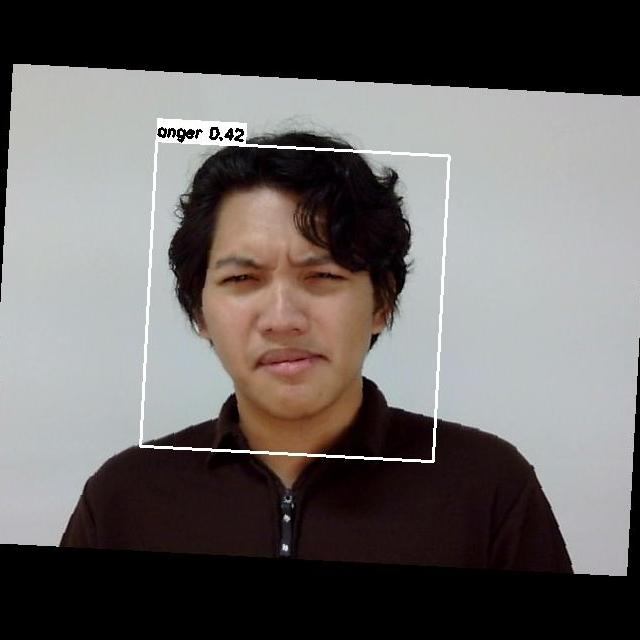Disgust: (196, 229, 374, 405)
